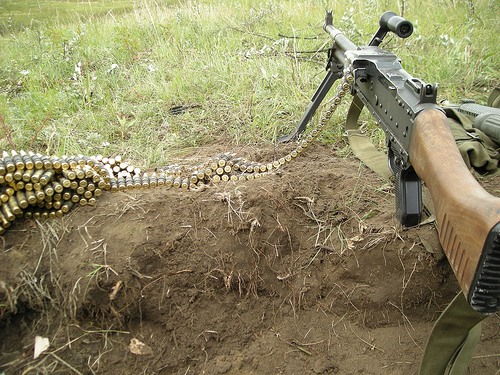rifle: (231, 13, 498, 325)
